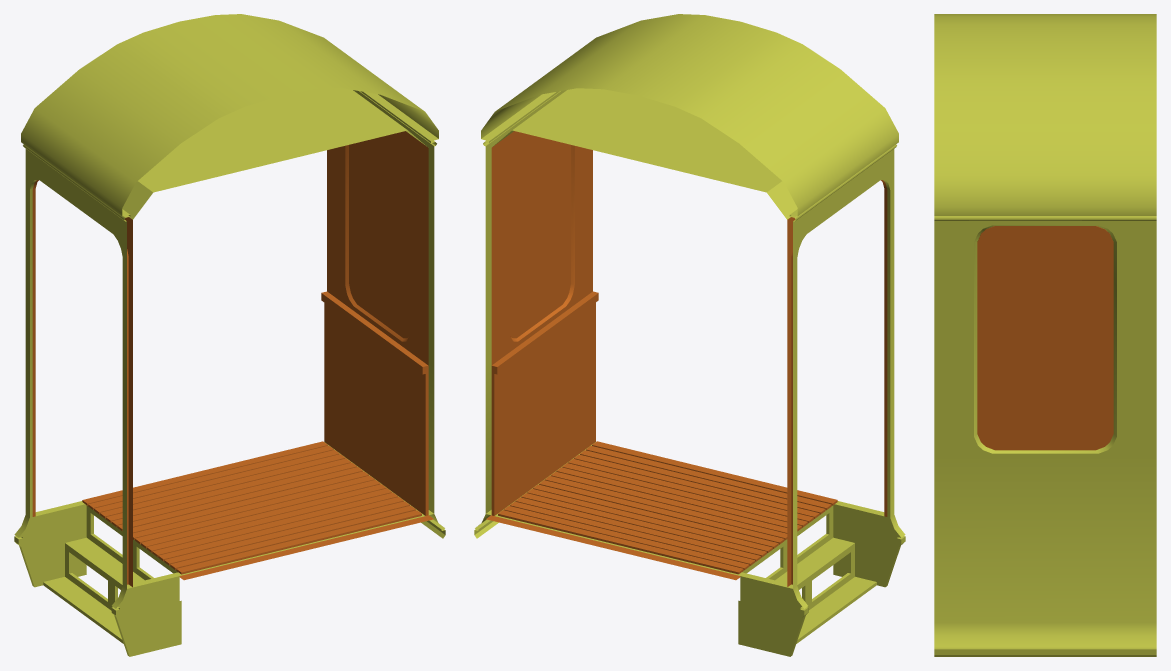
File: vagon enter lod0.FBX
3 views of the same model, side by side, from view 1: azimuth 30°, elevation 25°; view 2: azimuth 150°, elevation 25°; view 3: azimuth 270°, elevation 25° (orthographic). The views are drawn at different scales.
Parts seen in each view (by area): view 1: Object859; view 2: Object859; view 3: Object859.
Part boxes in pixels (x1,y1,x2,y2): Object859: (14, 14, 445, 656); Object859: (474, 14, 905, 656); Object859: (934, 14, 1156, 656).
Bounding box in the file's own units: 2.25 × 3.44 × 1.2.
